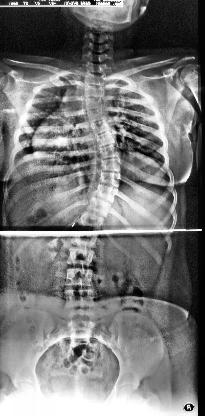Vertebrae: (64, 289, 96, 309), (64, 268, 94, 286), (67, 248, 95, 266), (78, 212, 108, 228), (86, 199, 112, 215), (72, 229, 98, 245), (99, 170, 122, 186), (94, 186, 119, 200), (83, 72, 107, 86), (94, 132, 117, 146), (99, 144, 122, 158), (99, 158, 121, 172), (86, 51, 110, 63), (89, 119, 111, 132), (84, 96, 104, 110), (84, 62, 106, 74), (84, 108, 106, 120), (84, 86, 104, 98)
